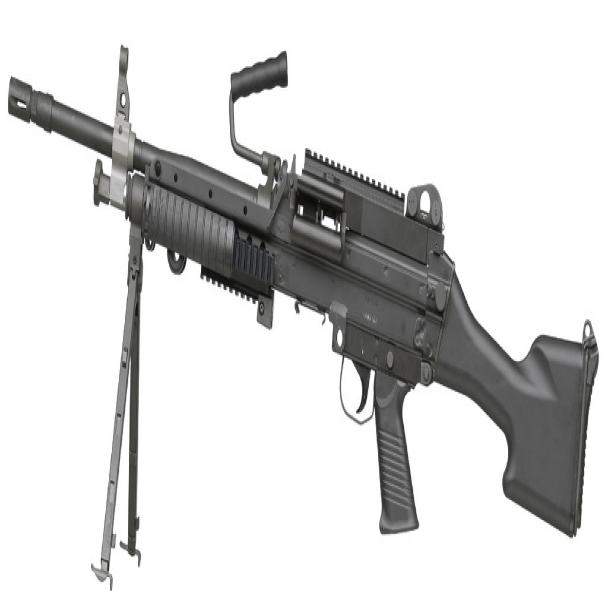Gun: (6, 28, 603, 596)
